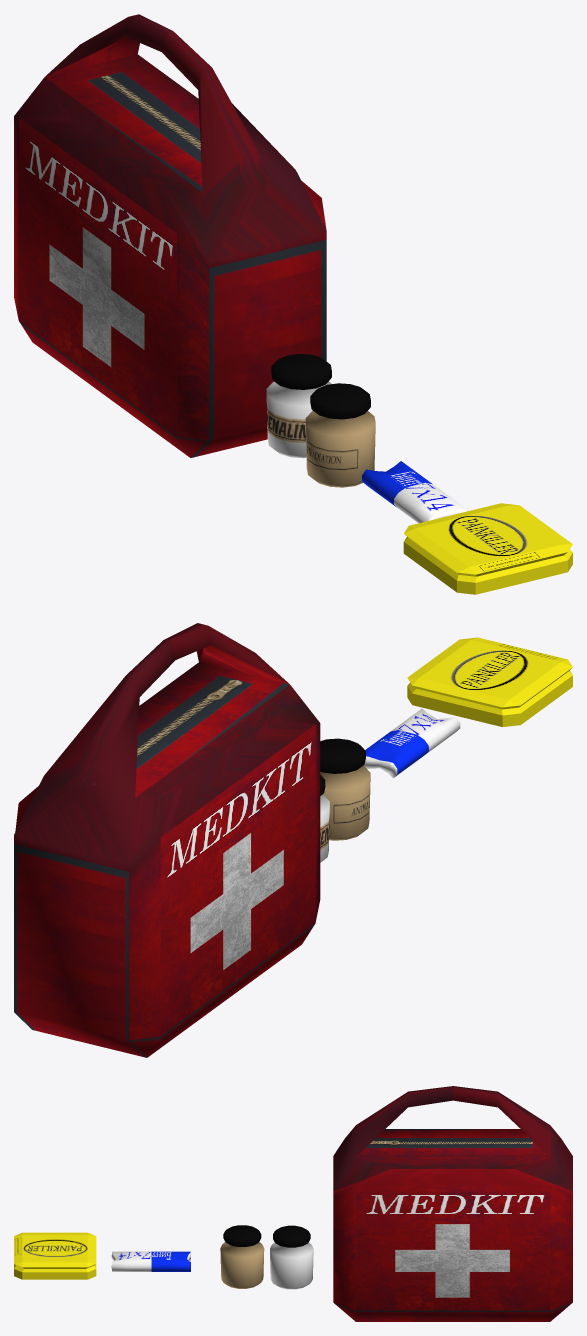
The model's file is medkit.fbx.
3 renders of one model, top to bottom at view 1: azimuth 30°, elevation 25°; view 2: azimuth 150°, elevation 25°; view 3: azimuth 270°, elevation 25°, orthographic. The views are drawn at different scales.
Parts seen in each view (by area): view 1: Medkit, Painkiller, Adrenaline.001, Adrenaline, Bandage; view 2: Medkit, Painkiller, Adrenaline.001, Bandage, Adrenaline; view 3: Medkit, Painkiller, Adrenaline, Adrenaline.001, Bandage.
Boxes of the visible parts, box(x1,y1,x2,y2) form: Medkit: box(14, 14, 326, 457); Painkiller: box(403, 503, 572, 594); Adrenaline.001: box(305, 383, 375, 487); Adrenaline: box(266, 354, 331, 458); Bandage: box(362, 461, 467, 523); Medkit: box(14, 623, 320, 1057); Painkiller: box(407, 637, 572, 727); Adrenaline.001: box(320, 738, 370, 840); Bandage: box(363, 708, 460, 777); Adrenaline: box(320, 775, 329, 862); Medkit: box(333, 1086, 572, 1321); Painkiller: box(14, 1232, 96, 1279); Adrenaline: box(270, 1225, 313, 1289); Adrenaline.001: box(220, 1225, 264, 1288); Bandage: box(111, 1251, 190, 1271).
Size of the model in its own units: 15 by 35 by 81.59.
5 materials, 5 textured.
